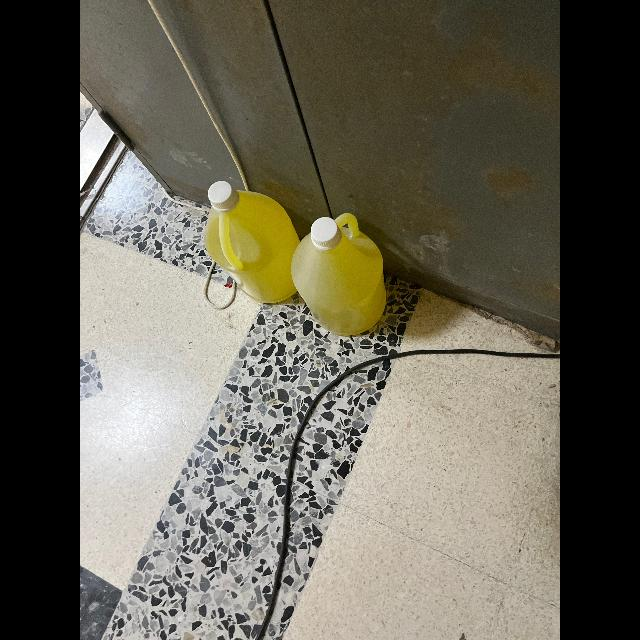chemical_plastic_gallon: (288, 206, 392, 338), (198, 178, 298, 308)
